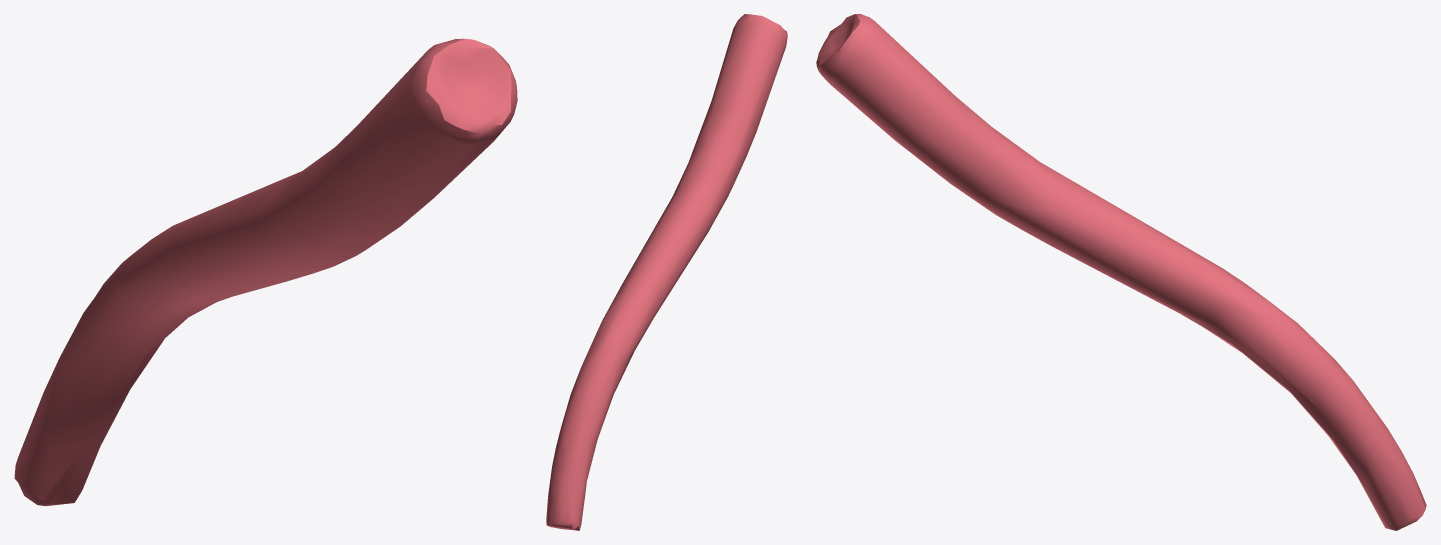
The model's file is fma18887.glb.
3 renders of one model, left to right at view 1: azimuth 30°, elevation 25°; view 2: azimuth 150°, elevation 25°; view 3: azimuth 270°, elevation 25°, orthographic. The views are drawn at different scales.
Parts seen in each view (by area): view 1: FMA18887; view 2: FMA18887; view 3: FMA18887.
Part boxes in pixels (box(x1,y1,x2,y2)): FMA18887: box(14, 38, 517, 506); FMA18887: box(546, 14, 787, 530); FMA18887: box(816, 14, 1426, 530).
Bounding box in the file's own units: 0.00853 × 0.0583 × 0.0632.
